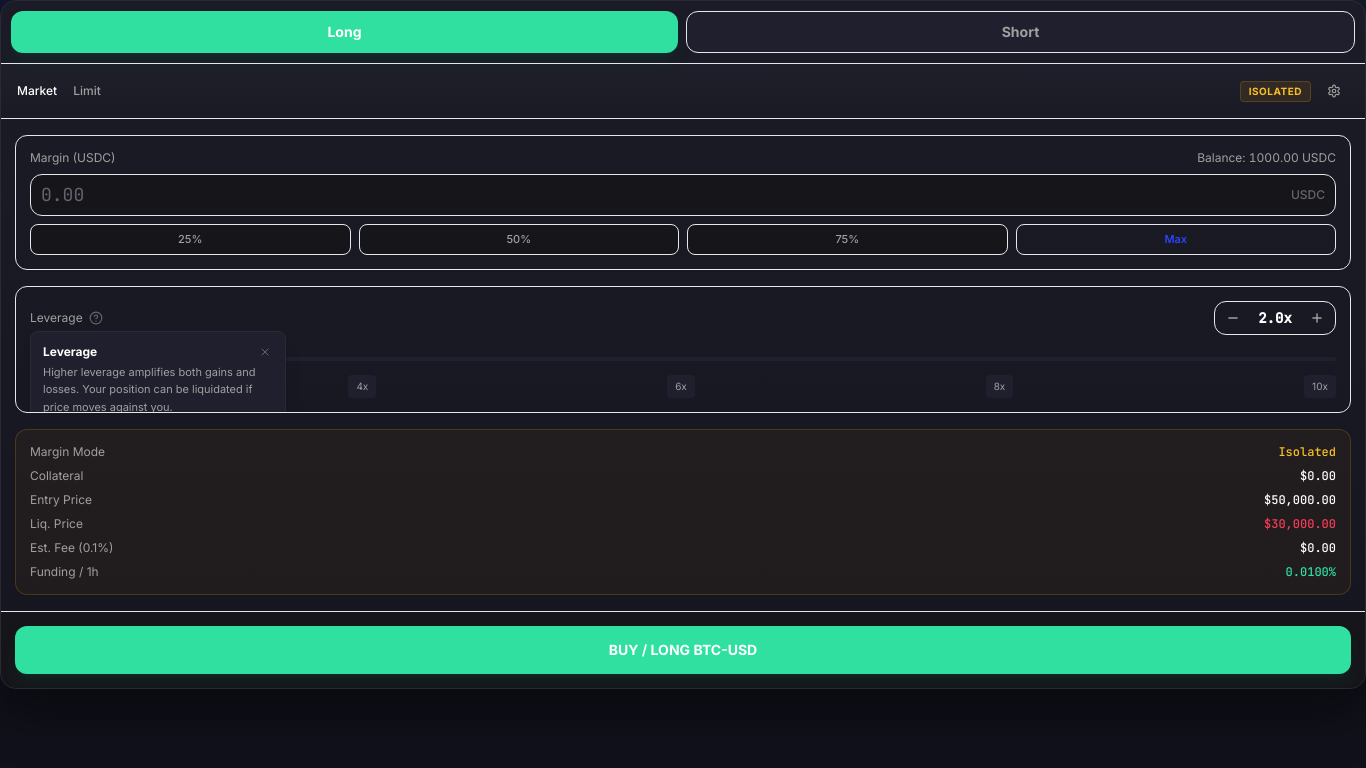
TradingForm › switches order types
Click the button with test id "order-type-limit": click(87, 91) x1=69 y1=83 x2=105 y2=99
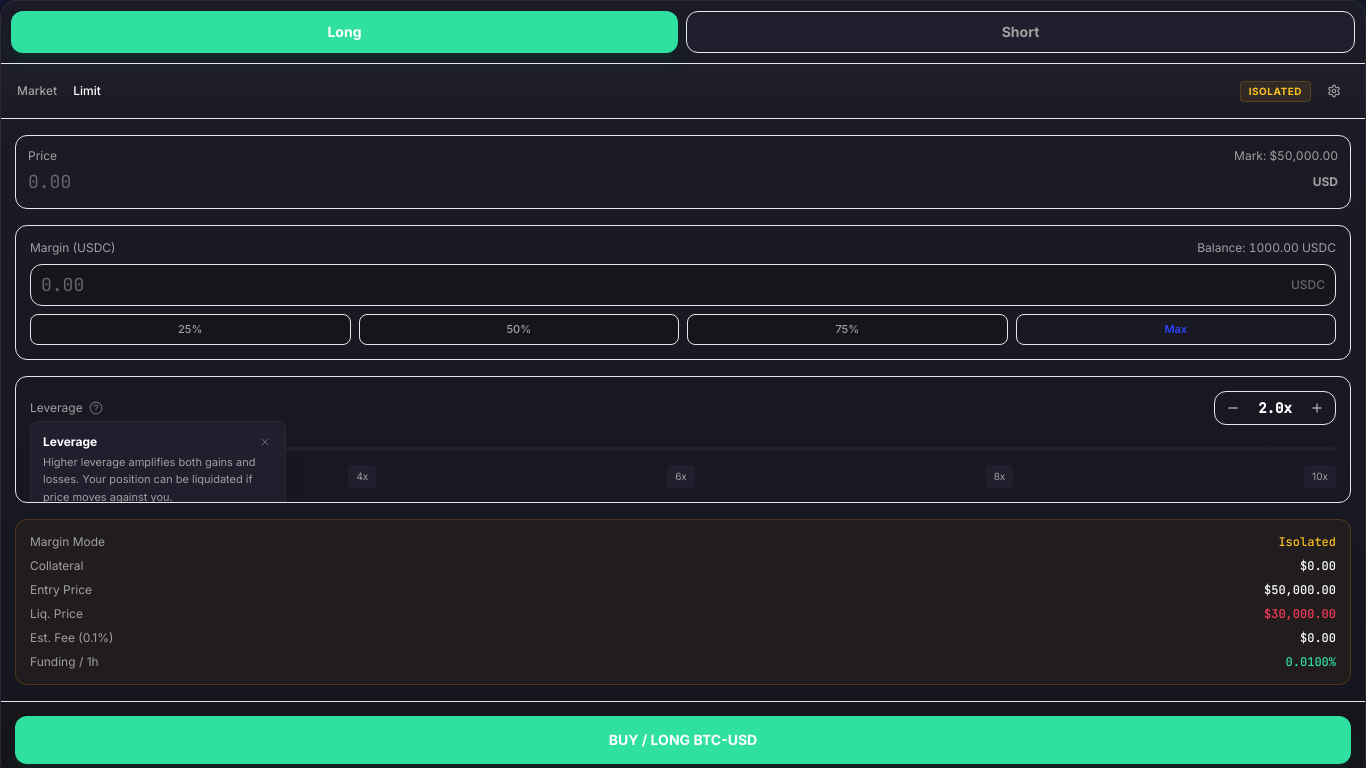
Result: the number field with test id "trigger-price" is shown at x1=28 y1=168 x2=1305 y2=196
Click the button with test id "order-type-market": click(37, 91) x1=13 y1=83 x2=61 y2=99
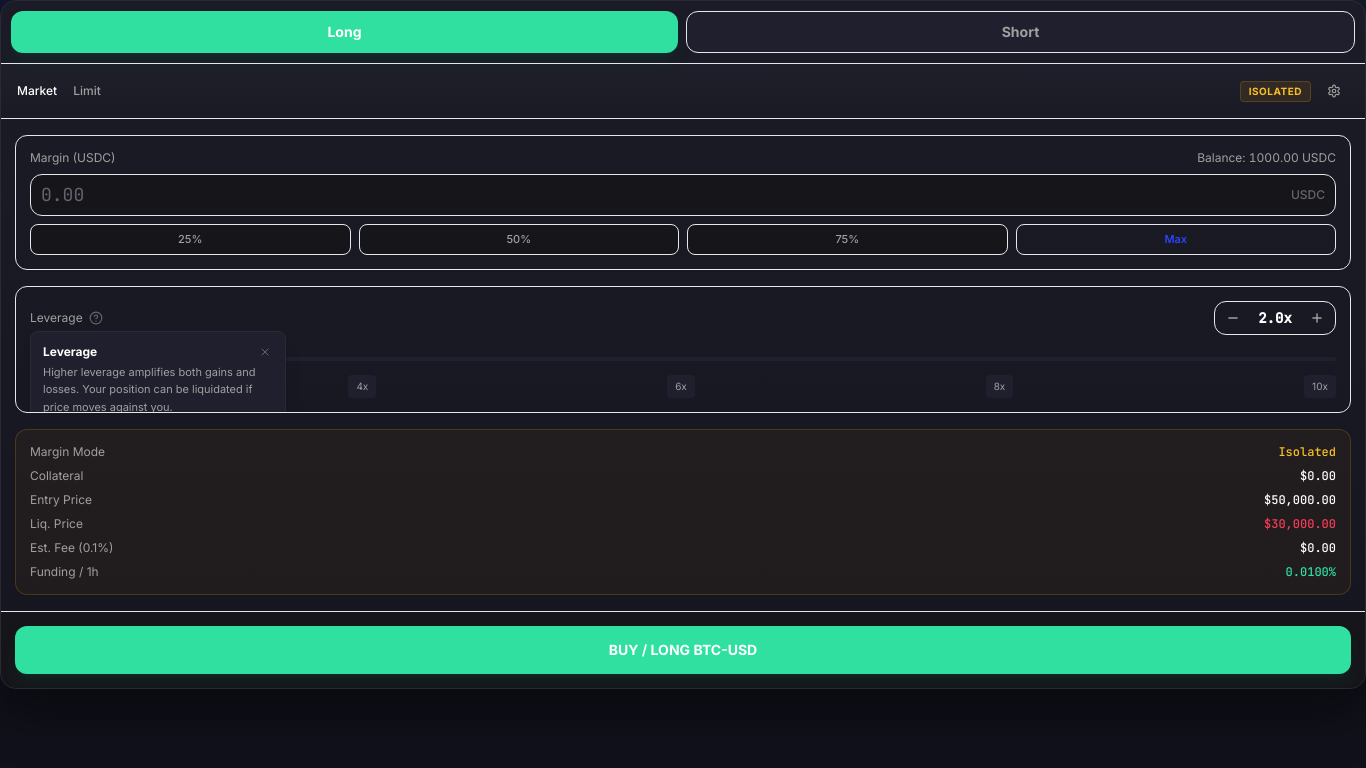
Result: the number field with test id "trigger-price" is gone
